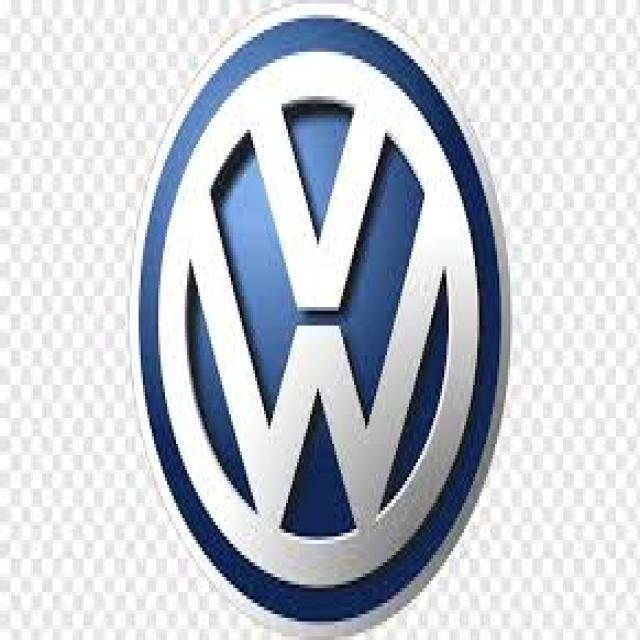wolksvogen: (123, 1, 519, 638)
